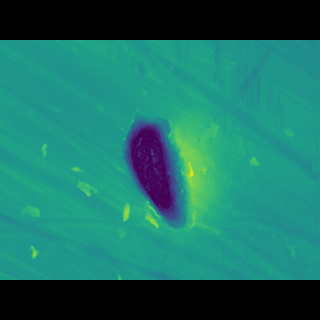Loch: (0, 198, 320, 228), (114, 118, 202, 218)
